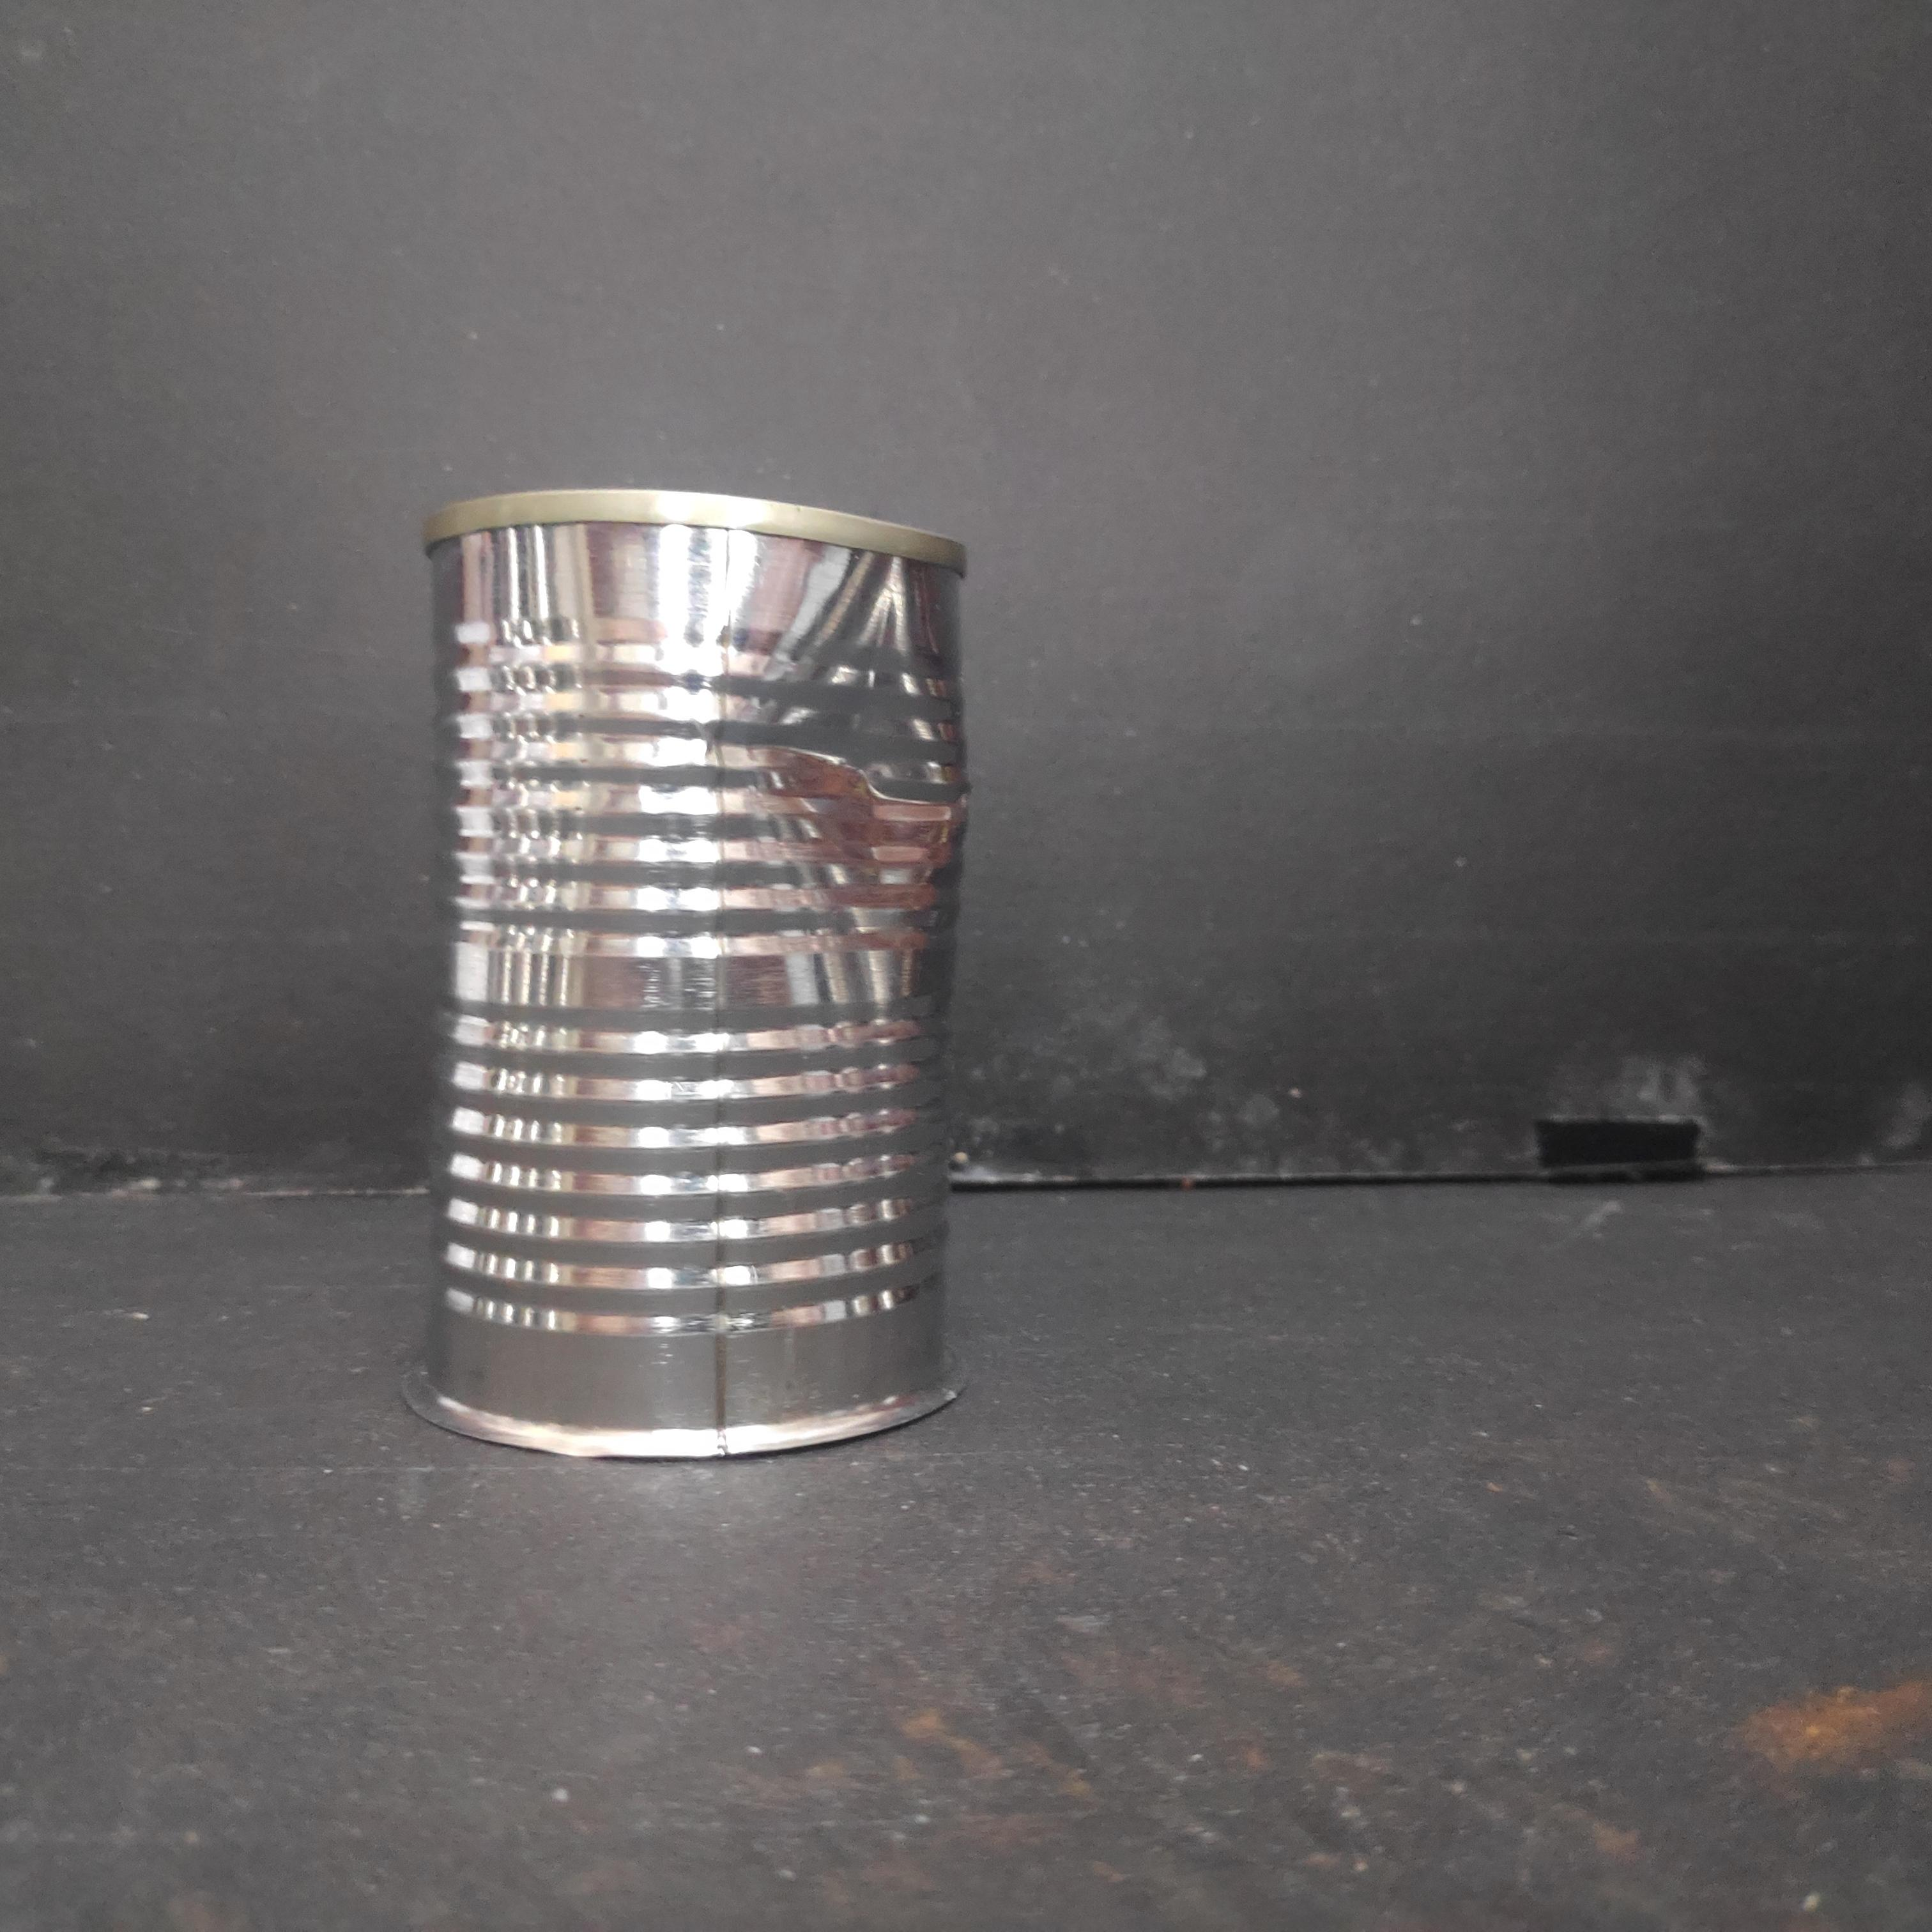Minor Defect: (410, 483, 994, 1470)
